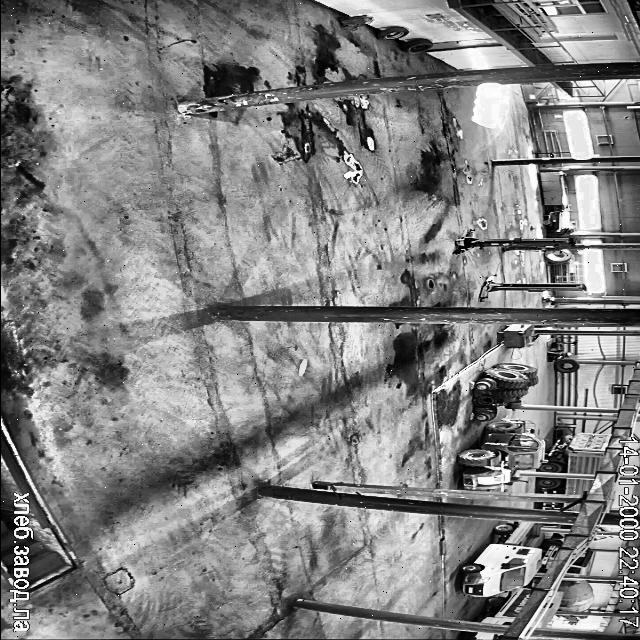class6: (458, 418, 544, 489), (474, 362, 538, 420)
class7: (460, 521, 541, 596), (540, 432, 612, 473), (480, 588, 532, 624), (556, 580, 594, 611), (539, 477, 594, 494), (541, 538, 563, 572), (538, 594, 560, 626), (567, 549, 595, 574), (461, 632, 500, 640), (542, 499, 569, 509), (564, 616, 580, 624), (565, 504, 580, 510)
tractor: (340, 16, 372, 26)
truck: (454, 230, 573, 253), (479, 275, 586, 300)
